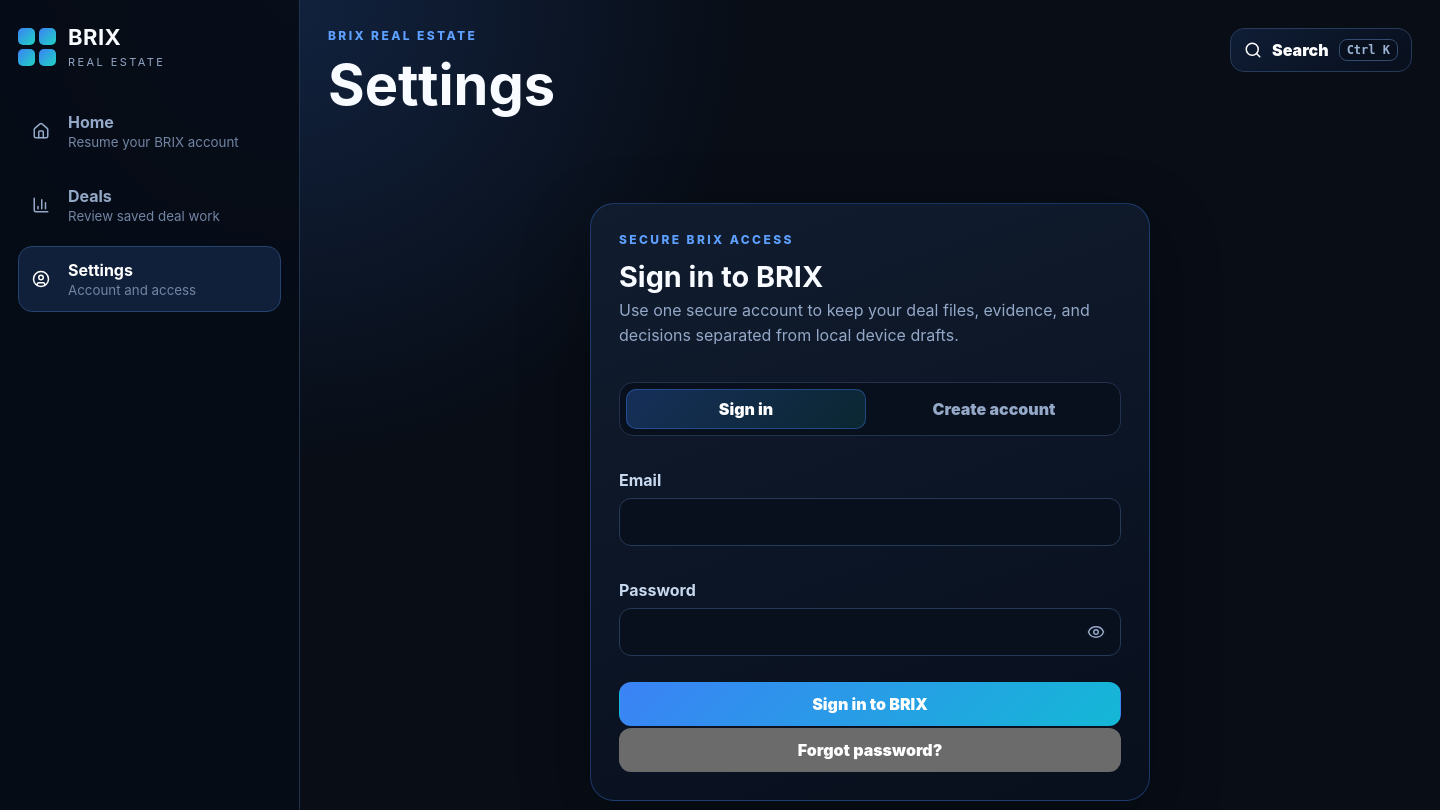
Test case: BRIX app module flow › mocked: signing in does not delete or merge anonymous drafts into cloud deals
expect the heading "Sign in to BRIX" is shown: met, box x1=619 y1=259 x2=823 y2=294
Type "edhemmer@gmail.com" into the field labelled "Email" at (870, 522), box x1=619 y1=498 x2=1121 y2=546
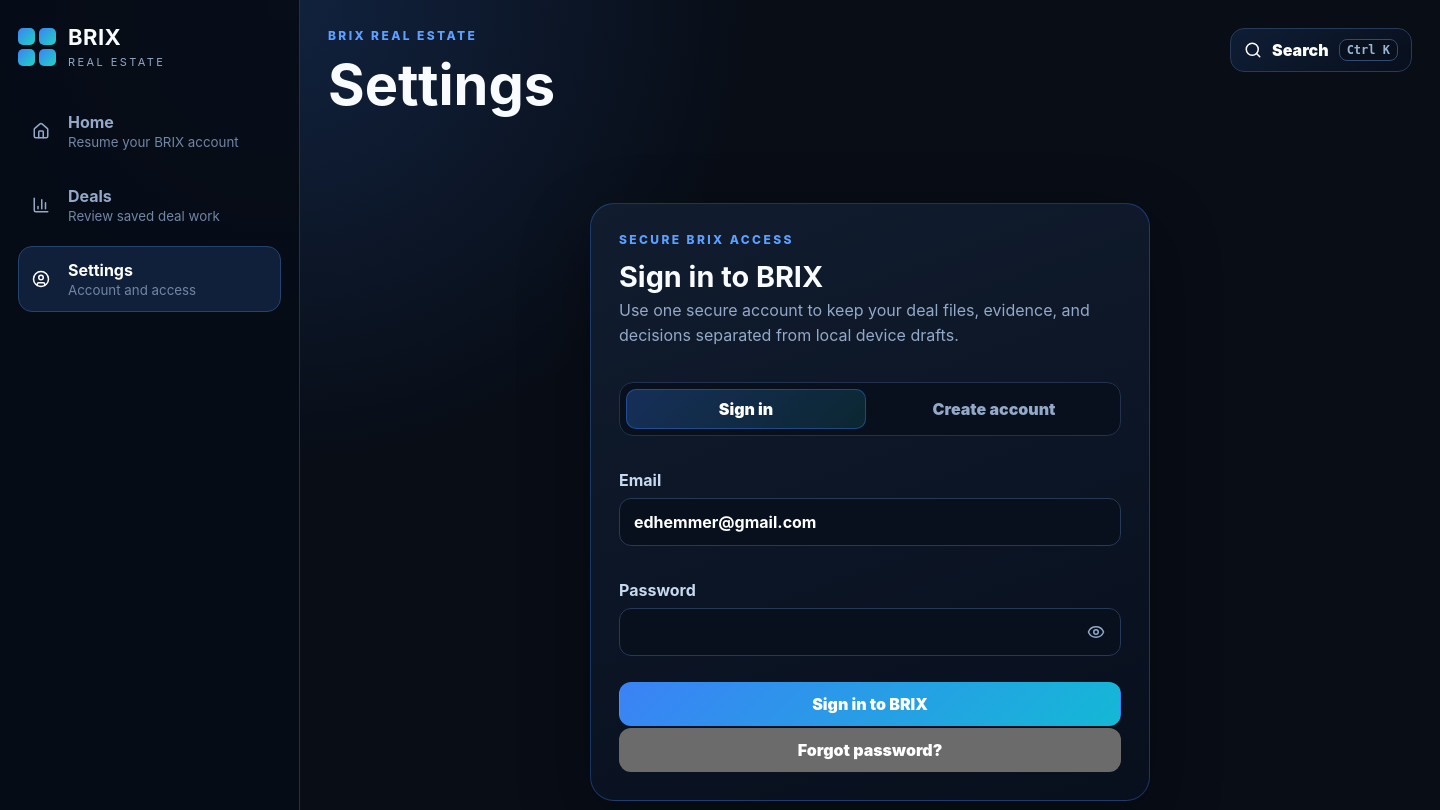
Type "inlight" into the password field labelled "Password" at (870, 632), box x1=619 y1=608 x2=1121 y2=656
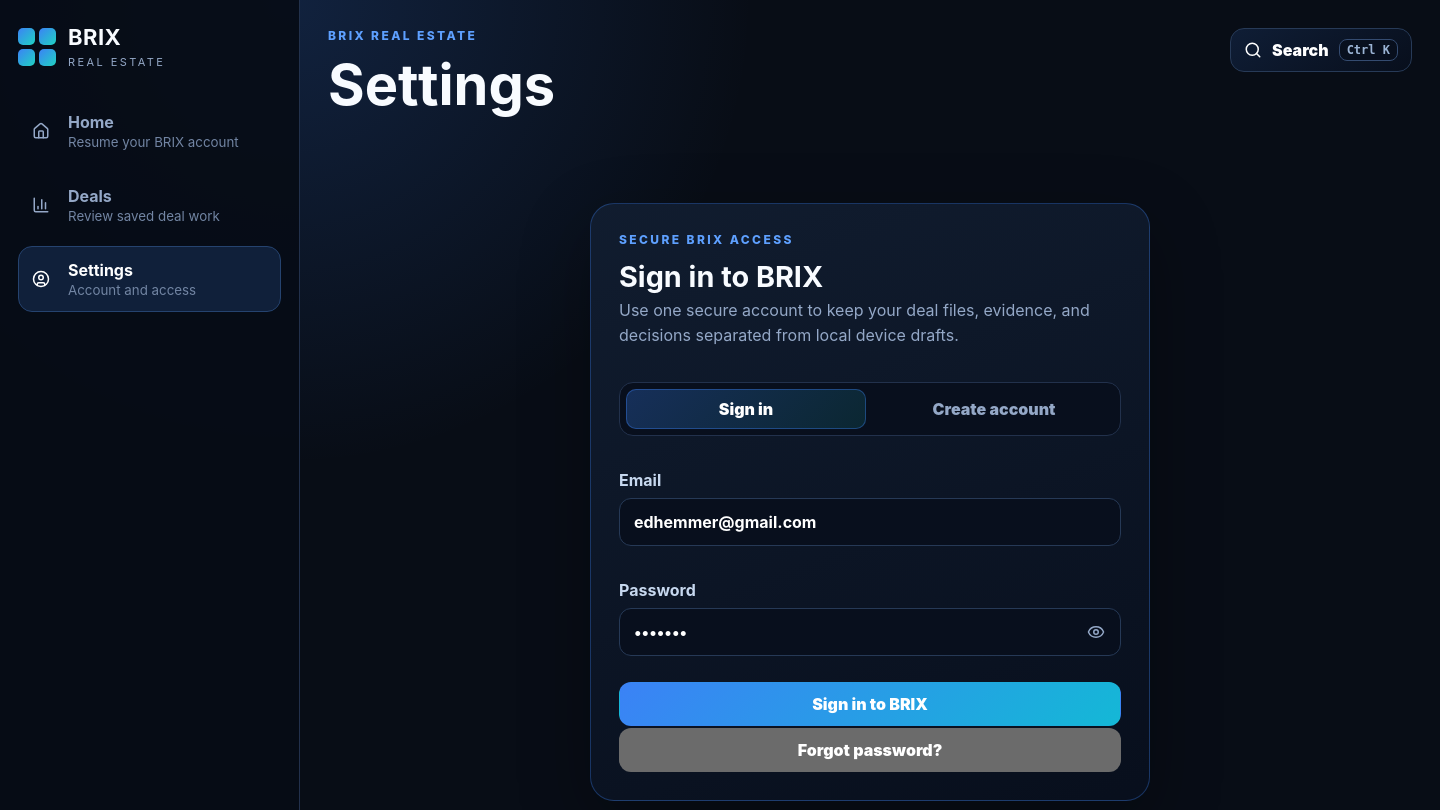
Click the button "Sign in to BRIX" at (870, 704), box x1=619 y1=682 x2=1121 y2=726
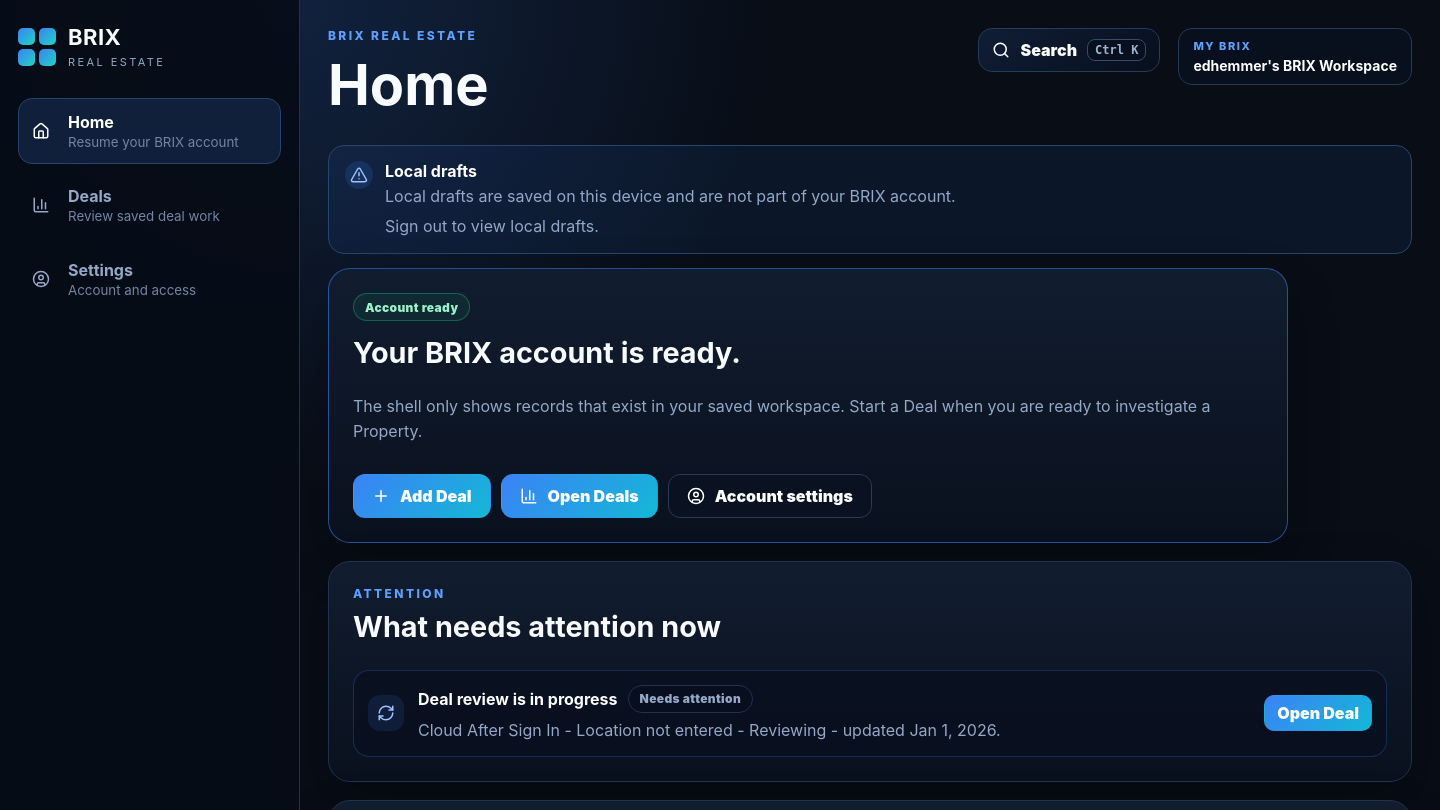
expect the text "Local drafts are saved on this device and are not part of your BRIX account." is shown: met, box x1=385 y1=186 x2=956 y2=206
